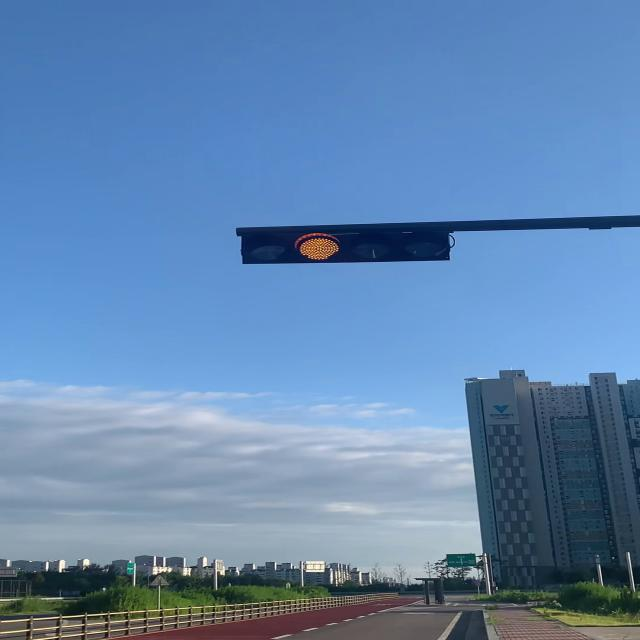yellow_light: (237, 230, 453, 260)
